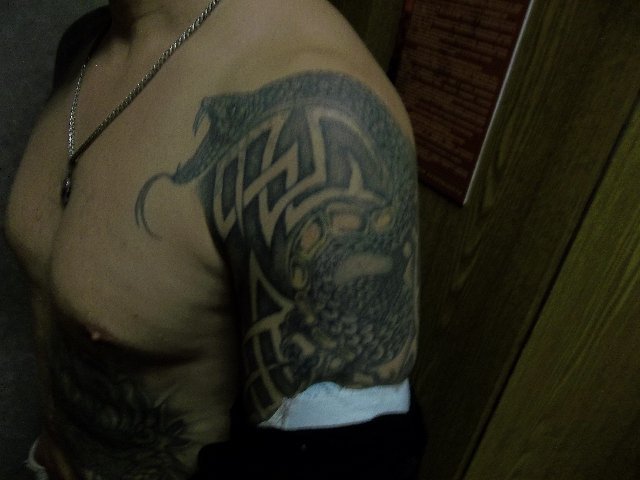tatu7_zmeya: (167, 73, 438, 376)
